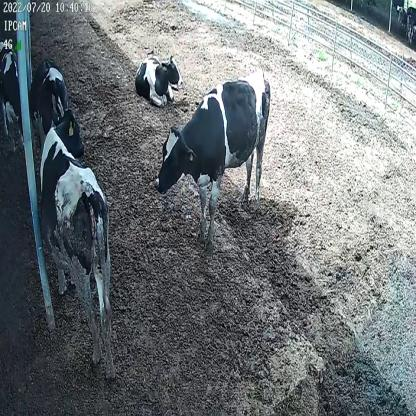cow: (153, 70, 273, 258), (38, 109, 116, 361), (24, 57, 69, 134), (134, 44, 182, 109)
